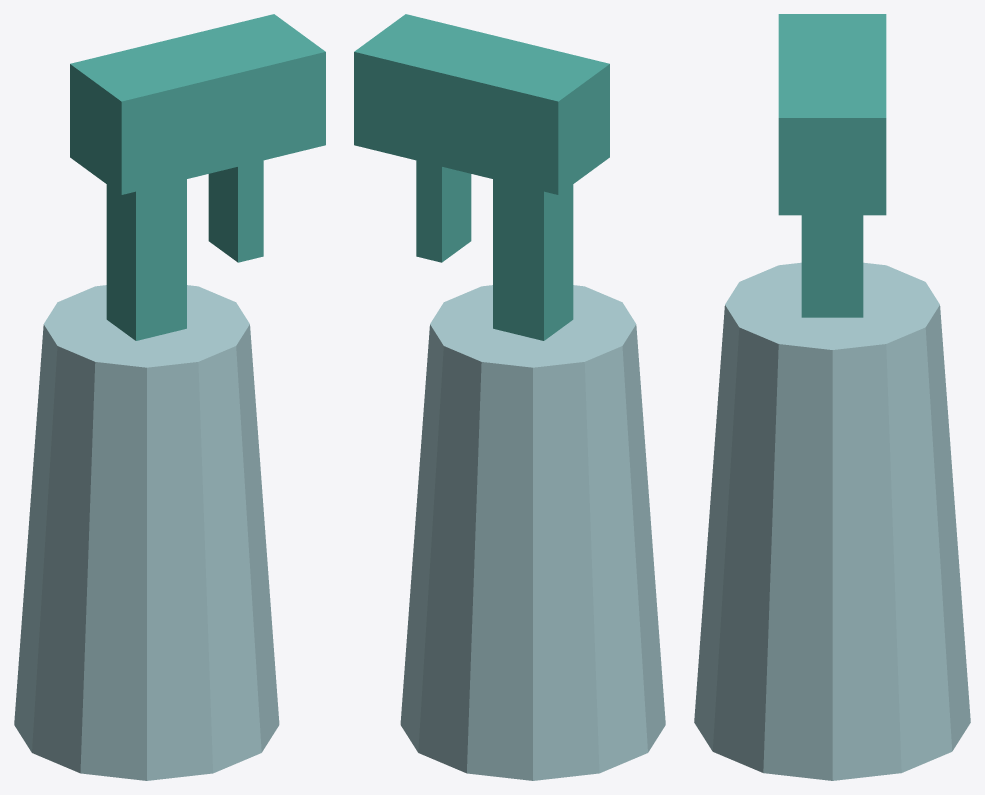
File: supermarket-operations-spray-bottle-a0ba9f40__26937.glb
3 views of the same model, side by side, from view 1: azimuth 30°, elevation 25°; view 2: azimuth 150°, elevation 25°; view 3: azimuth 270°, elevation 25° (orthographic). The views are drawn at different scales.
Parts seen in each view (by area): view 1: spray-bottle; view 2: spray-bottle; view 3: spray-bottle.
Part boxes in pixels (box(x1,y1,x2,y2)): spray-bottle: box(14, 14, 325, 780); spray-bottle: box(354, 14, 665, 780); spray-bottle: box(694, 14, 970, 780).
Size of the model in its own units: 0.105 by 0.245 by 0.09.
